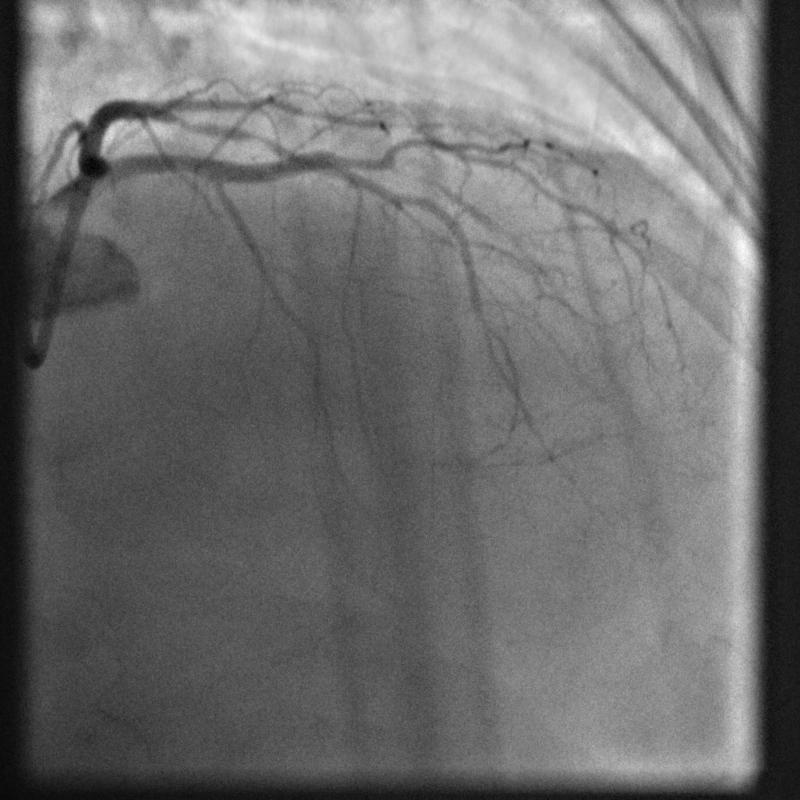Stenosis: (166, 113, 269, 143)
